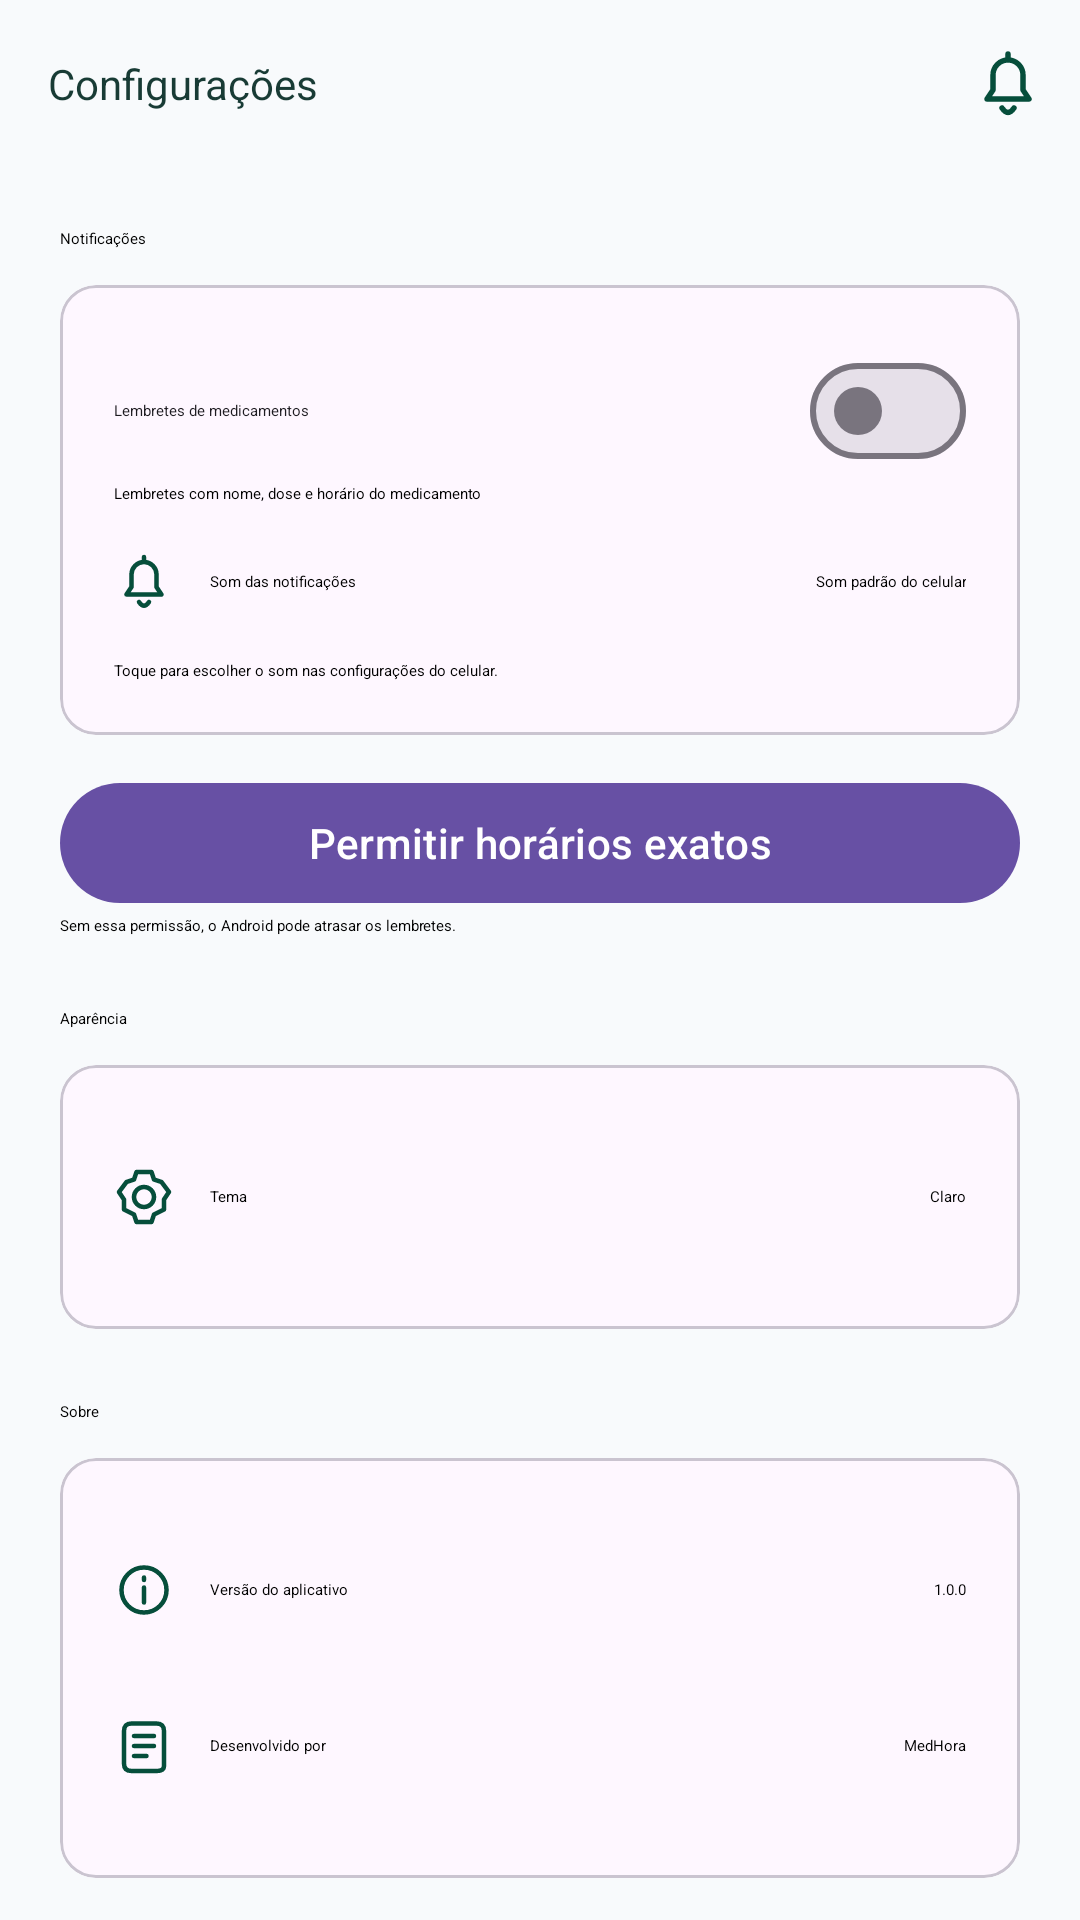

Icons on this 1080px x 1920px Android screen, each with the point to tap as (x=x, y=y):
info: (x=144, y=1590)
list: (x=144, y=1747)
settings: (x=144, y=1197)
